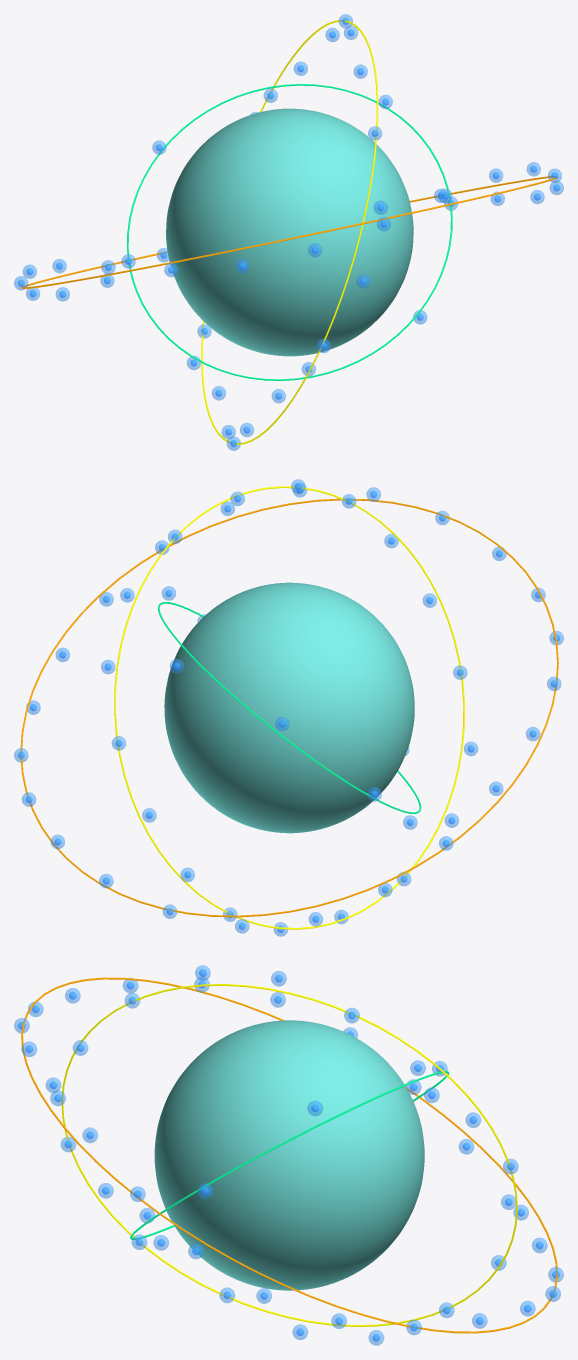
3 renders of one model, top to bottom at view 1: azimuth 30°, elevation 25°; view 2: azimuth 150°, elevation 25°; view 3: azimuth 270°, elevation 25°, orthographic. The views are drawn at different scales.
Visible parts, largest first — view 1: Sb, object 7, object 61, object 24; view 2: Sb, object 61, object 24, object 7; view 3: Sb, object 24, object 61, object 7.
Boxes of the visible parts, x1,y1,x2,y2 form: Sb: [166, 108, 413, 356]; object 7: [127, 84, 452, 380]; object 61: [21, 176, 555, 288]; object 24: [201, 20, 378, 444]; Sb: [164, 582, 414, 833]; object 61: [20, 498, 558, 917]; object 24: [114, 486, 464, 929]; object 7: [158, 602, 421, 813]; Sb: [154, 1020, 424, 1290]; object 24: [61, 984, 517, 1326]; object 61: [21, 977, 557, 1333]; object 7: [130, 1071, 449, 1239].
Size of the model in its own units: 6.14 by 4.75 by 5.53.
